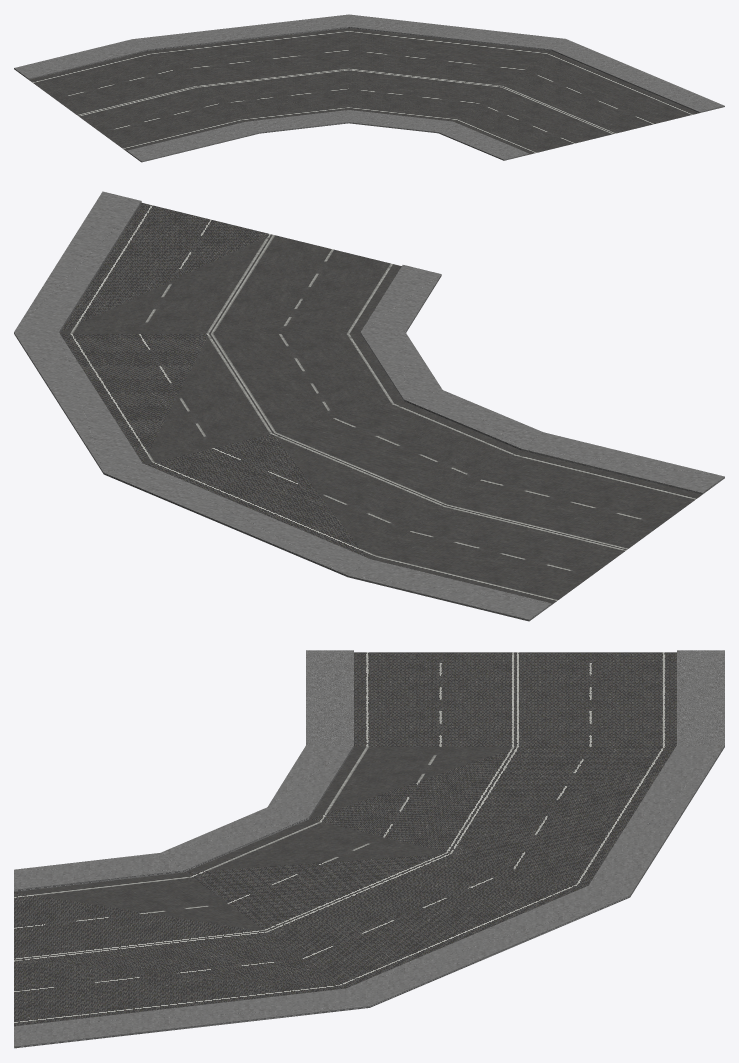
File: Highway_Curve.glb
3 views of the same model, one above another, from view 1: azimuth 30°, elevation 25°; view 2: azimuth 150°, elevation 25°; view 3: azimuth 270°, elevation 25° (orthographic). The views are drawn at different scales.
Parts seen in each view (by area): view 1: Highway_Curve; view 2: Highway_Curve; view 3: Highway_Curve.
Part boxes in pixels (left/top/right/bottom): Highway_Curve: left=14, top=14, right=724, bottom=162; Highway_Curve: left=14, top=191, right=724, bottom=621; Highway_Curve: left=14, top=650, right=724, bottom=1048.
Bounding box in the file's own units: 54.36 × 0.1182 × 41.23.
2 materials, 2 textured.
